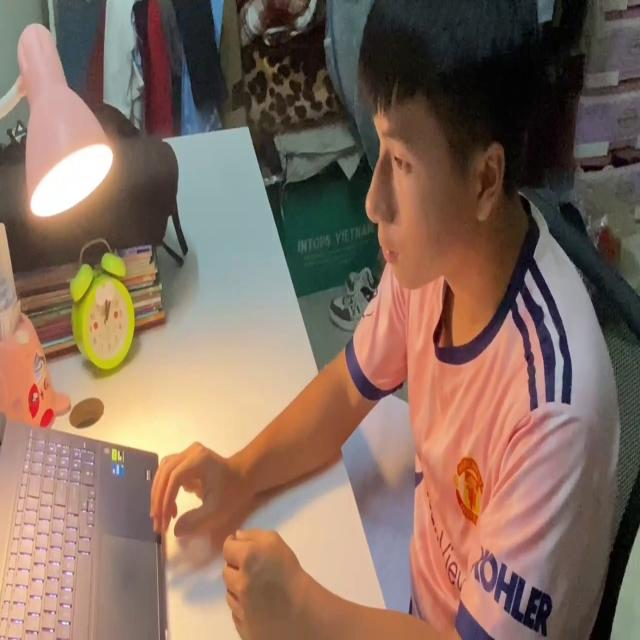book: (341, 395, 417, 606)
laptop: (0, 410, 169, 640)
student: (150, 0, 618, 640)
